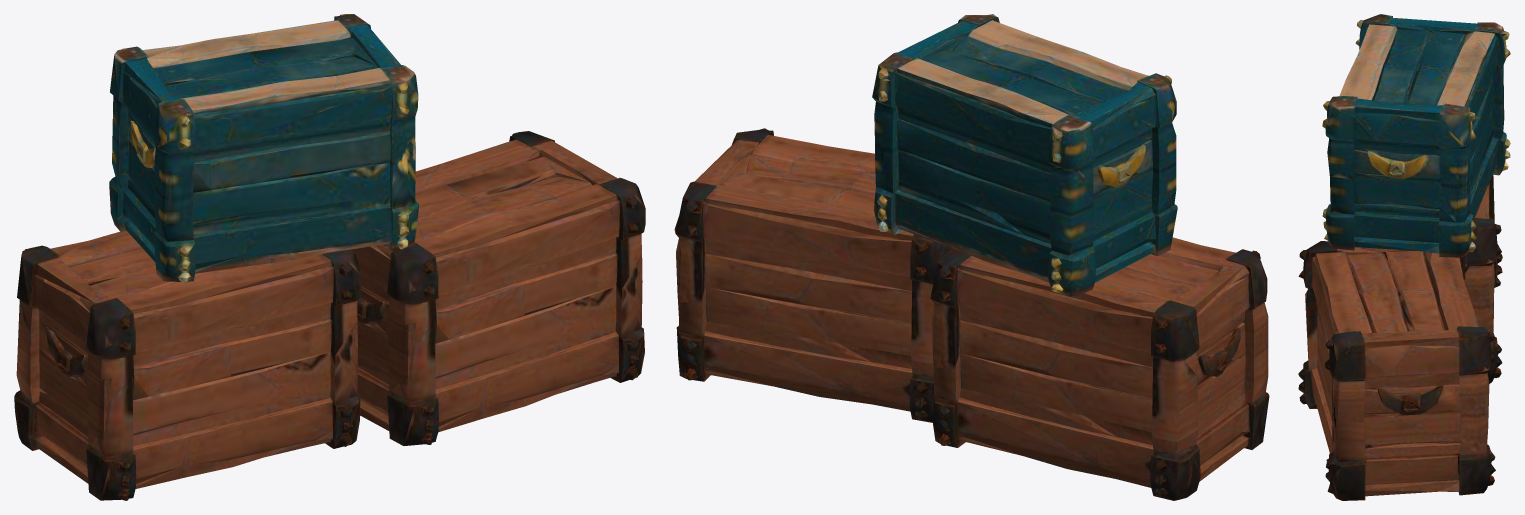
File: crate-stack.lod1.glb
The picture shows the model from 3 angles, left to right: view 1: azimuth 30°, elevation 25°; view 2: azimuth 150°, elevation 25°; view 3: azimuth 270°, elevation 25°; orthographic projection. The views are drawn at different scales.
Size of the model in its own units: 1.66 by 1.05 by 0.6696.
2 materials, 2 textured.
